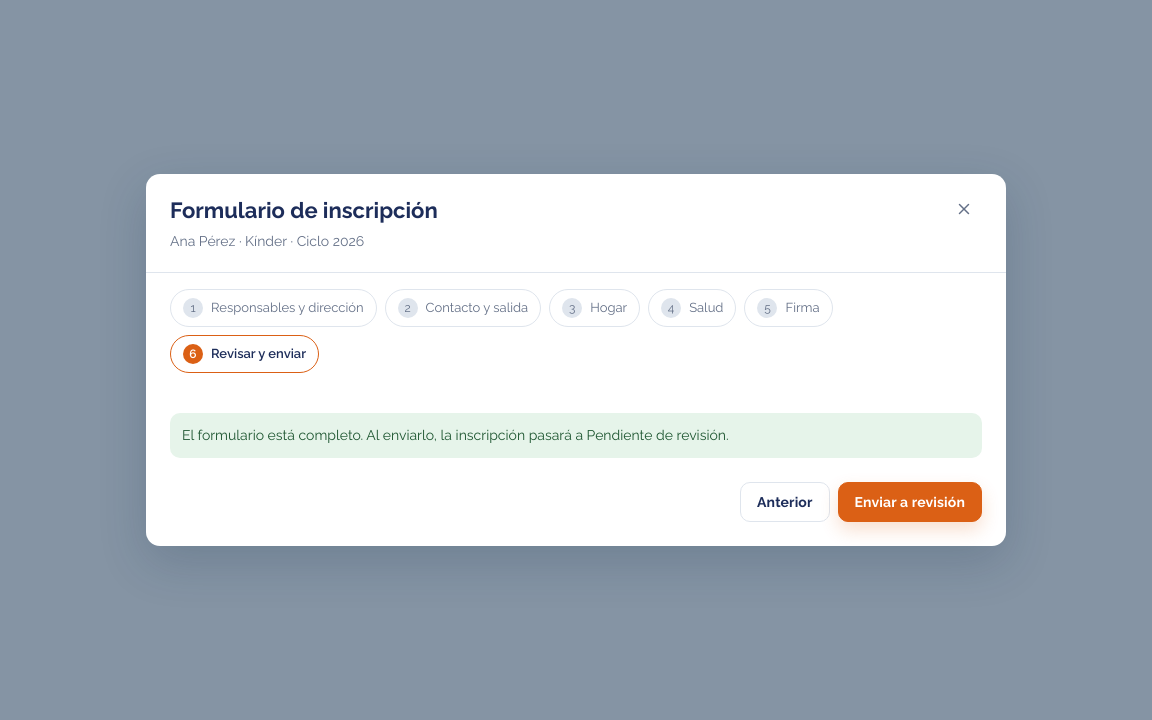
formulario de inscripción por pasos › si la API responde 422 muestra los campos que faltan
Click the button "Enviar a revisión" at (910, 502), box [838,482,982,522]
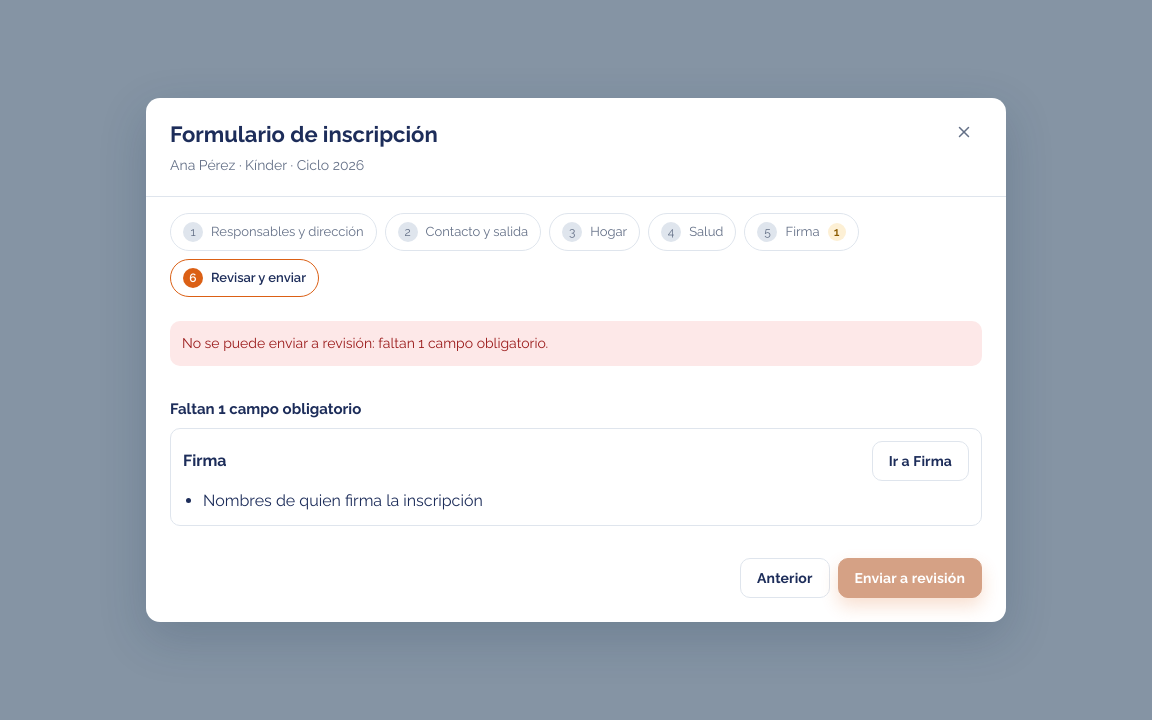
Check: the message shows "faltan 1 campo", box [182,335,548,351]
Check: the list item "Nombres de quien firma la inscripción" is shown, box [203,491,483,510]
